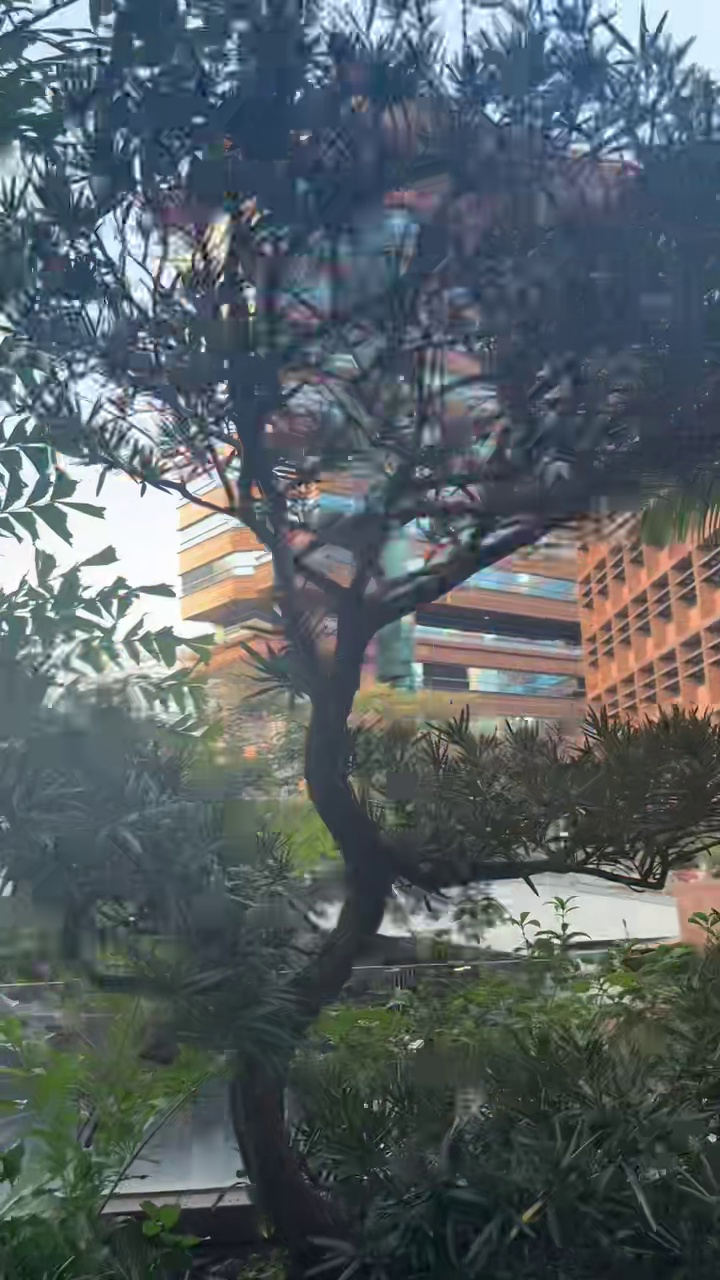Podocarpus macrophyllus: (10, 0, 719, 1279)
